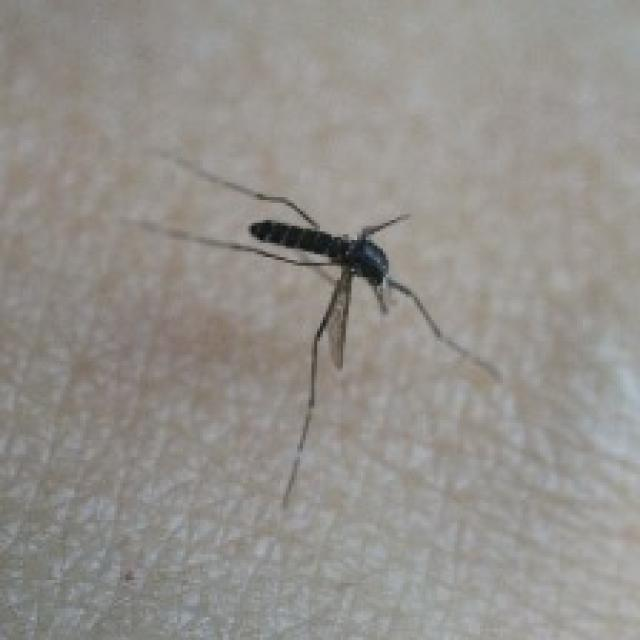aedes: (120, 146, 503, 508)
